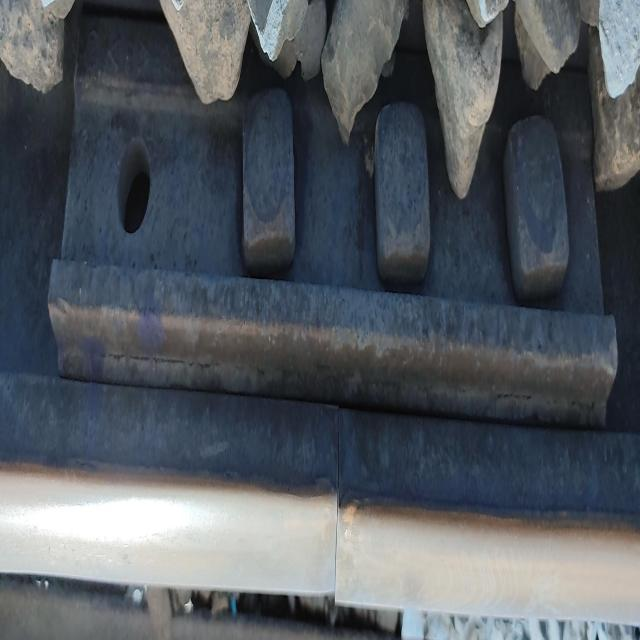Defective Joint: (78, 48, 615, 417)
